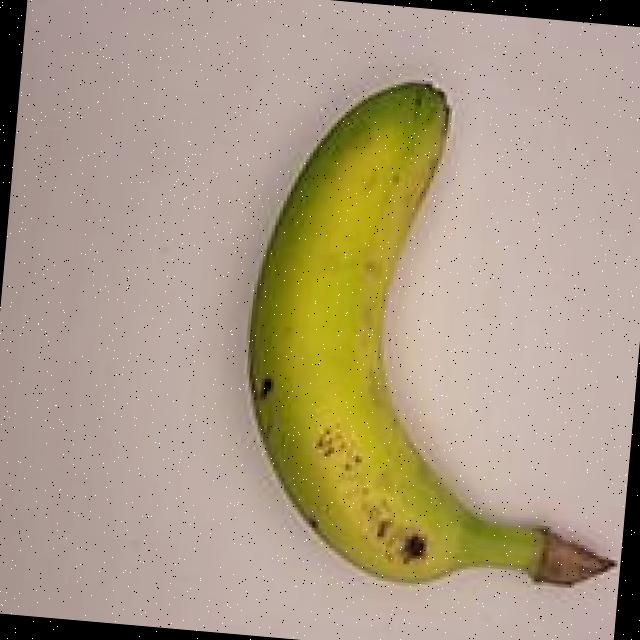Unripe: (157, 14, 640, 635)
